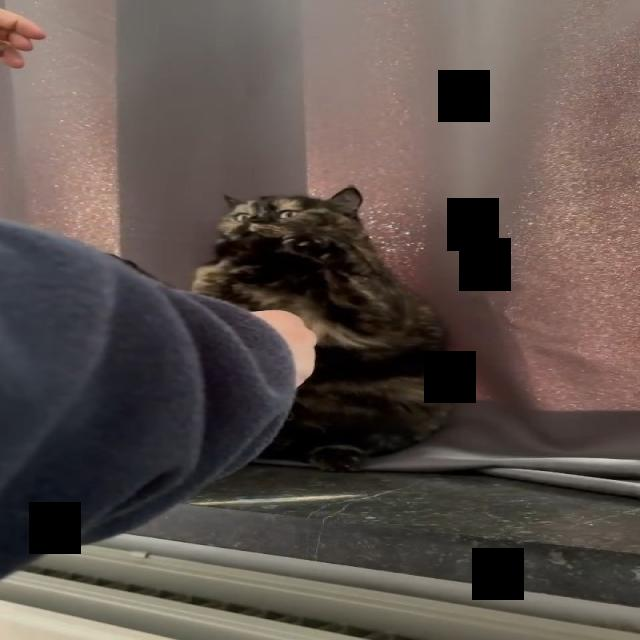authorized: (190, 185, 453, 472)
